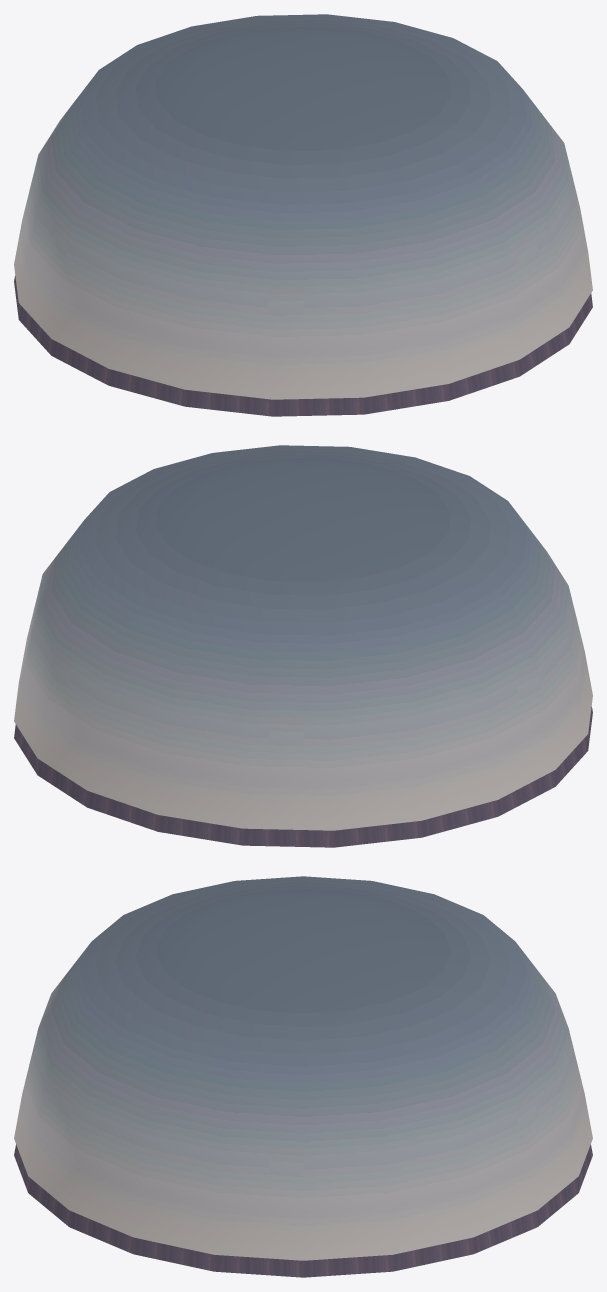
Rendered from stage-newy-sky.glb.
The picture shows the model from 3 angles, top to bottom: view 1: azimuth 30°, elevation 25°; view 2: azimuth 150°, elevation 25°; view 3: azimuth 270°, elevation 25°; orthographic projection.
Parts seen in each view (by area): view 1: sky; view 2: sky; view 3: sky.
Part boxes in pixels (x1,y1,x2,y2): sky: [14, 14, 592, 416]; sky: [14, 445, 592, 847]; sky: [14, 876, 592, 1277].
Bounding box in the file's own units: 3660 × 1545 × 3660.
Materials: 3 (3 with a texture image).
